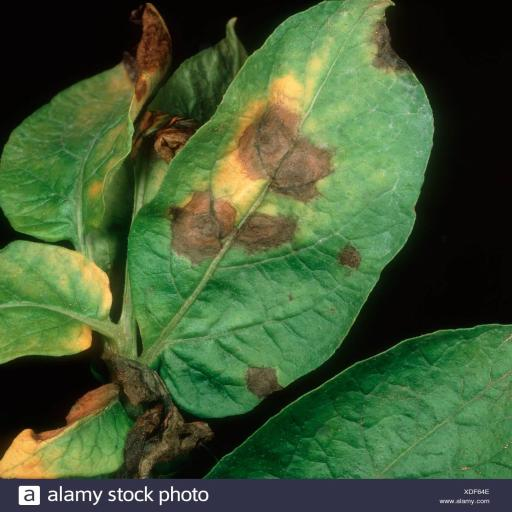Early Blight: (124, 0, 437, 424), (0, 0, 175, 268)
